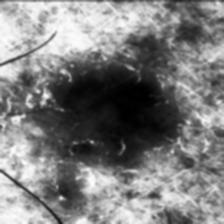Potentially Malignant Skin Tumors: (58, 66, 174, 162)
